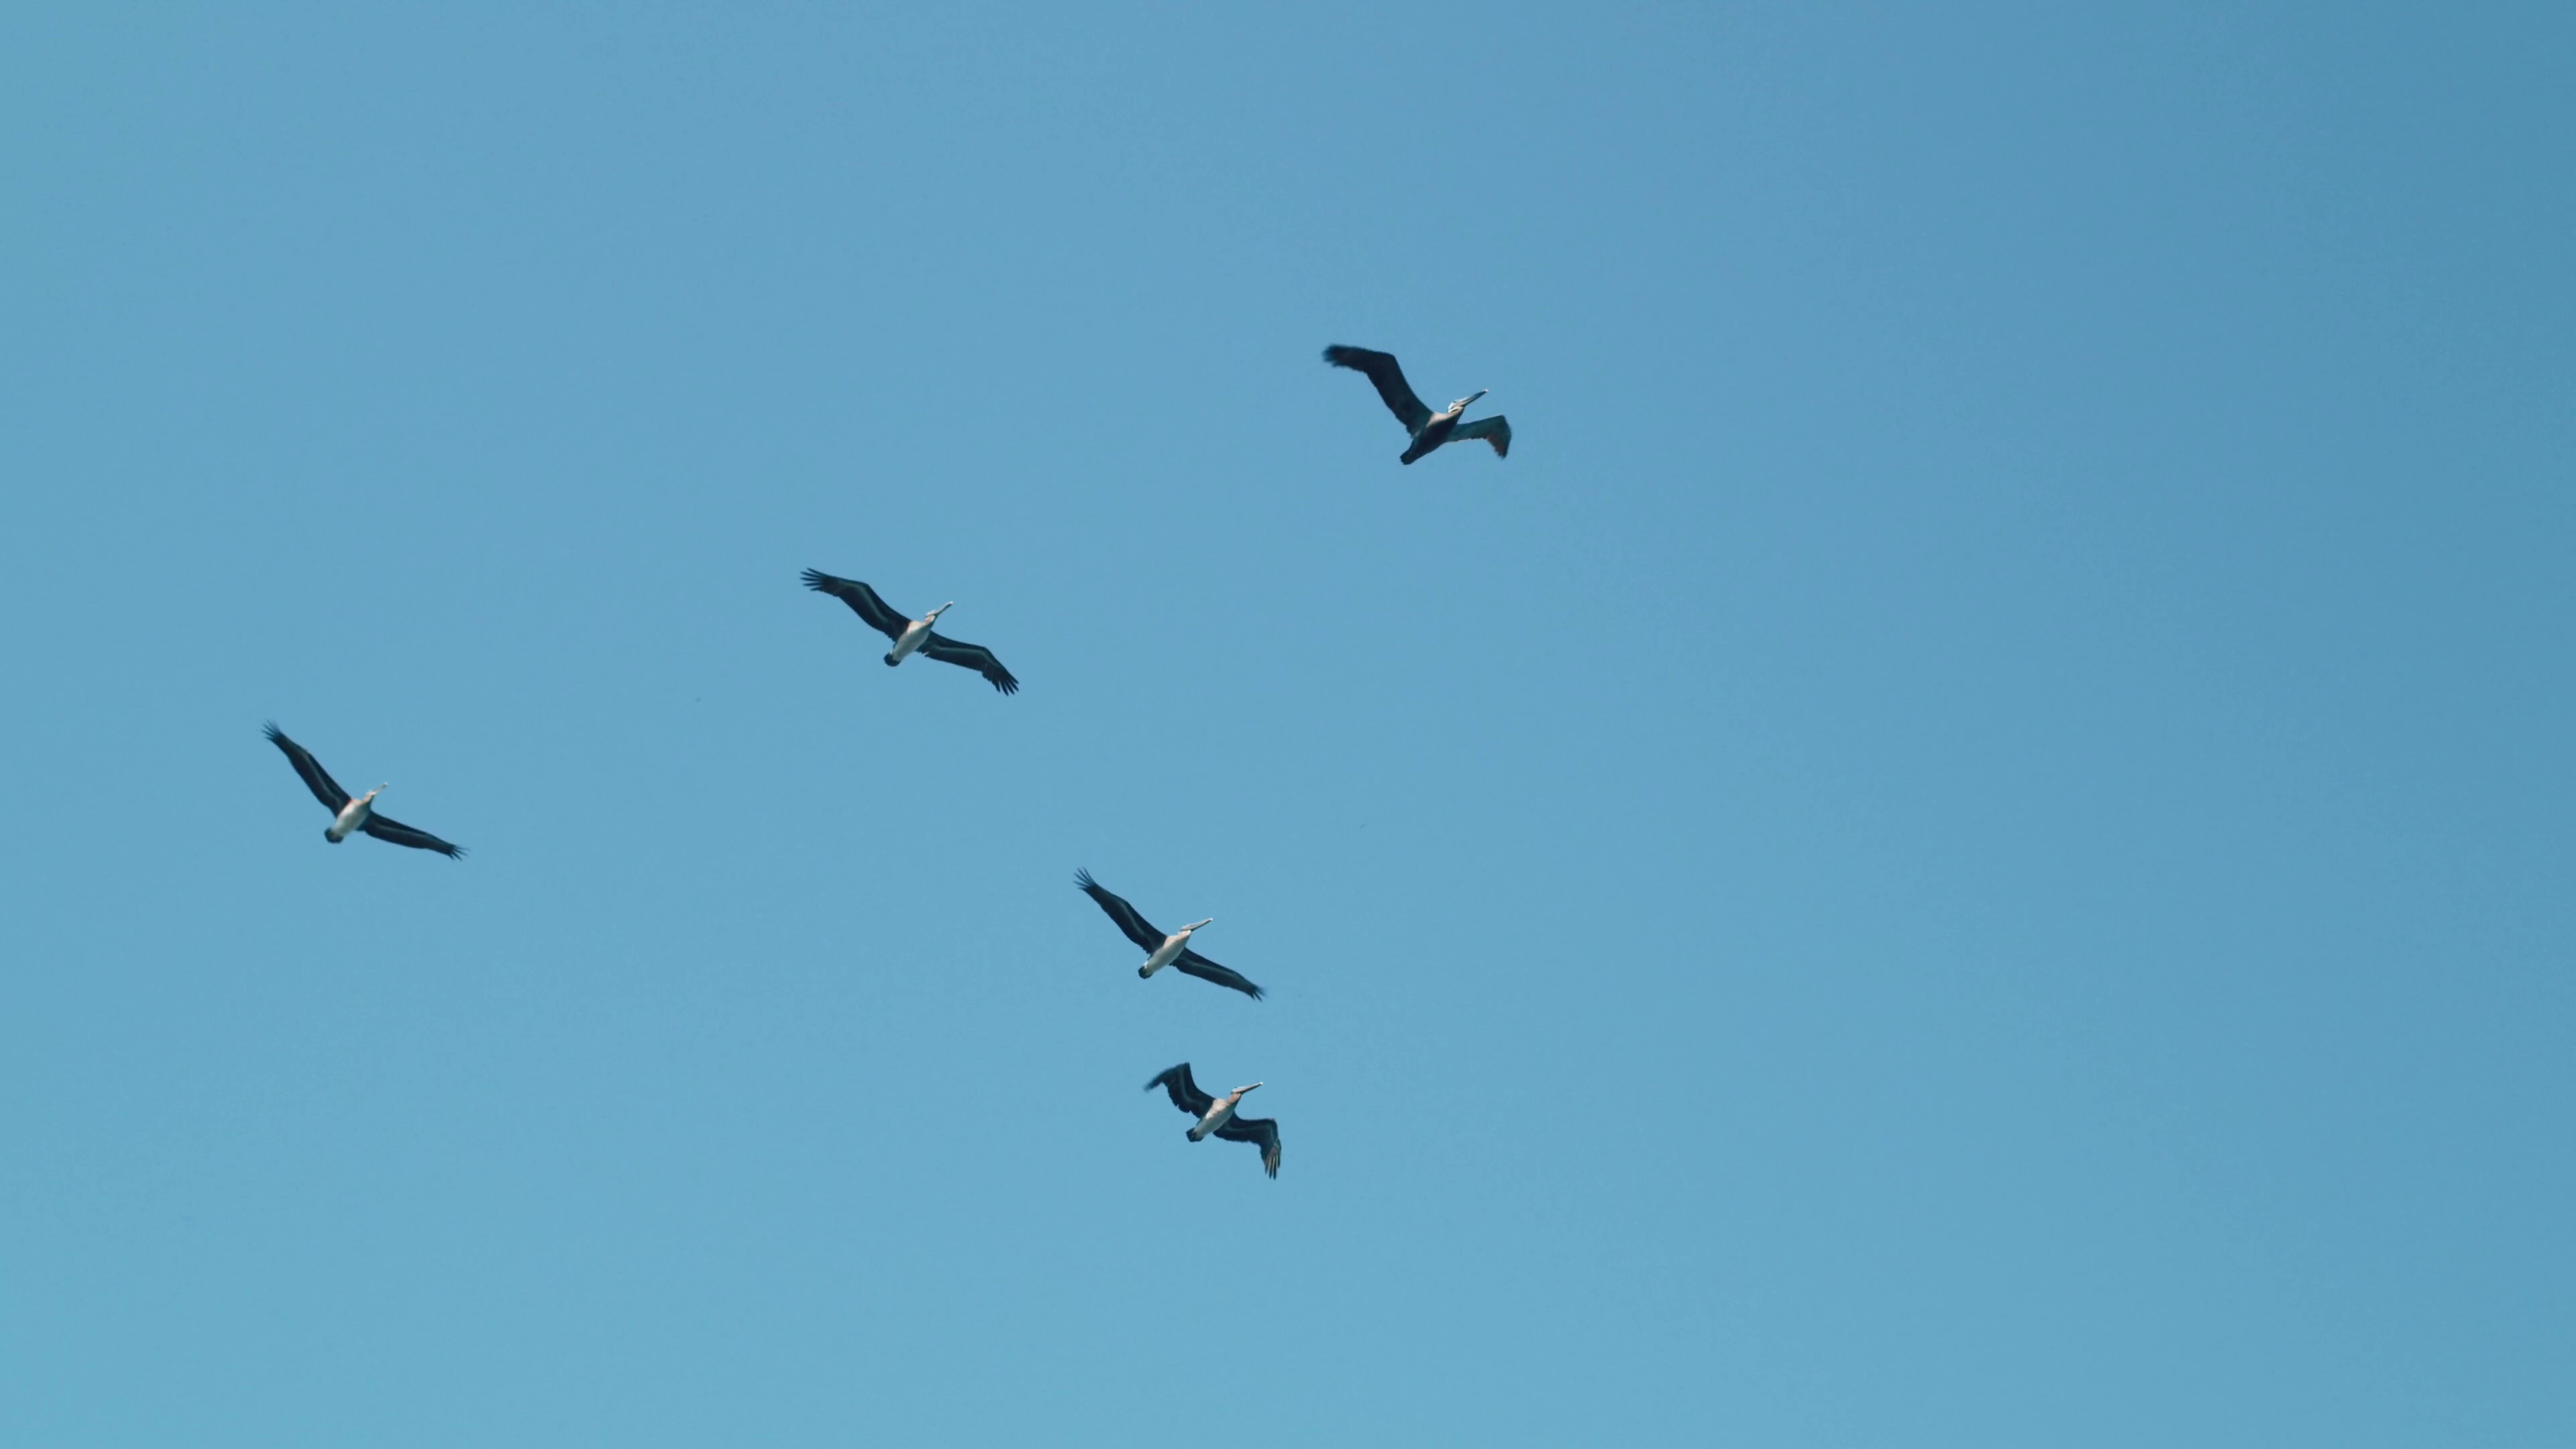bird: (801, 556, 1017, 699), (258, 718, 465, 858), (1074, 867, 1263, 1000), (1323, 338, 1511, 469), (1145, 1058, 1284, 1178)
